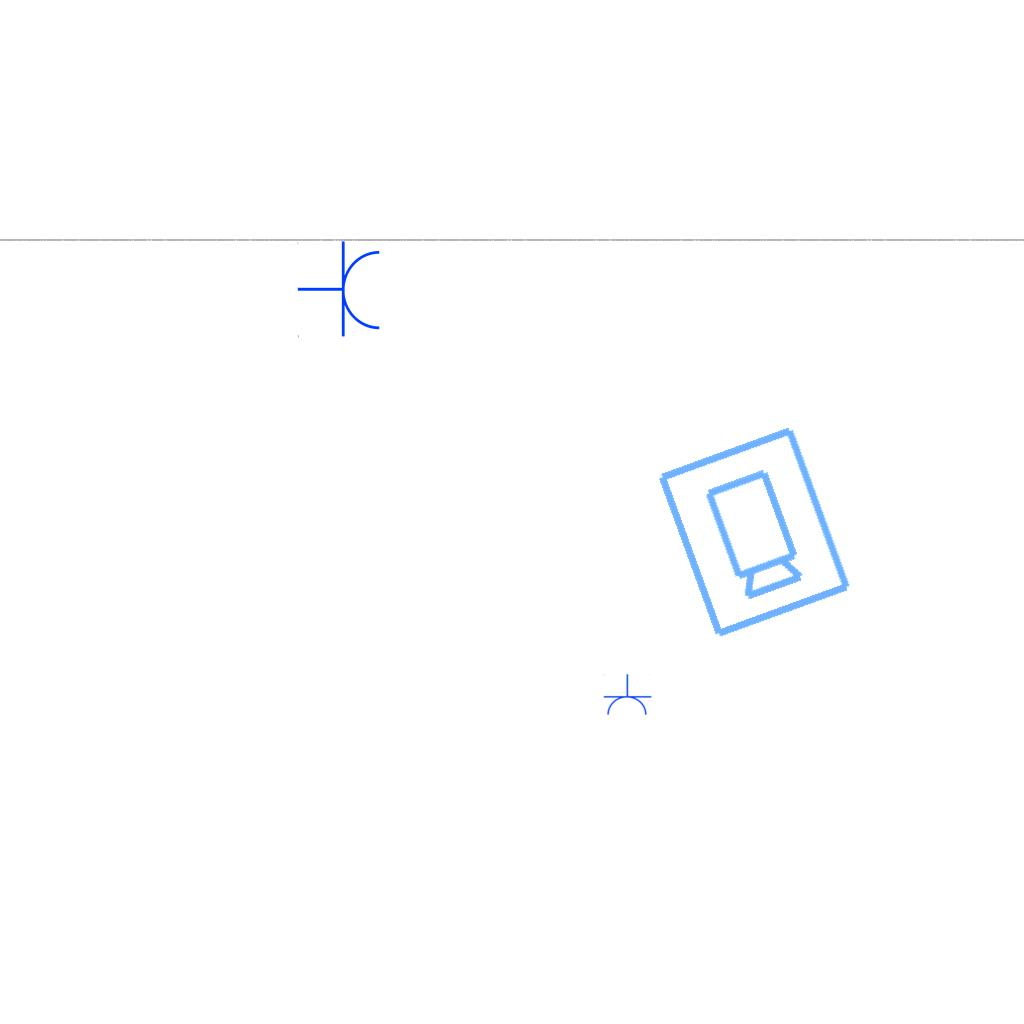KFO_Kamera_mit_Festobjektiv: (649, 420, 857, 644)
Schukosteckdose_einfach: (297, 240, 384, 340), (602, 674, 652, 717)
